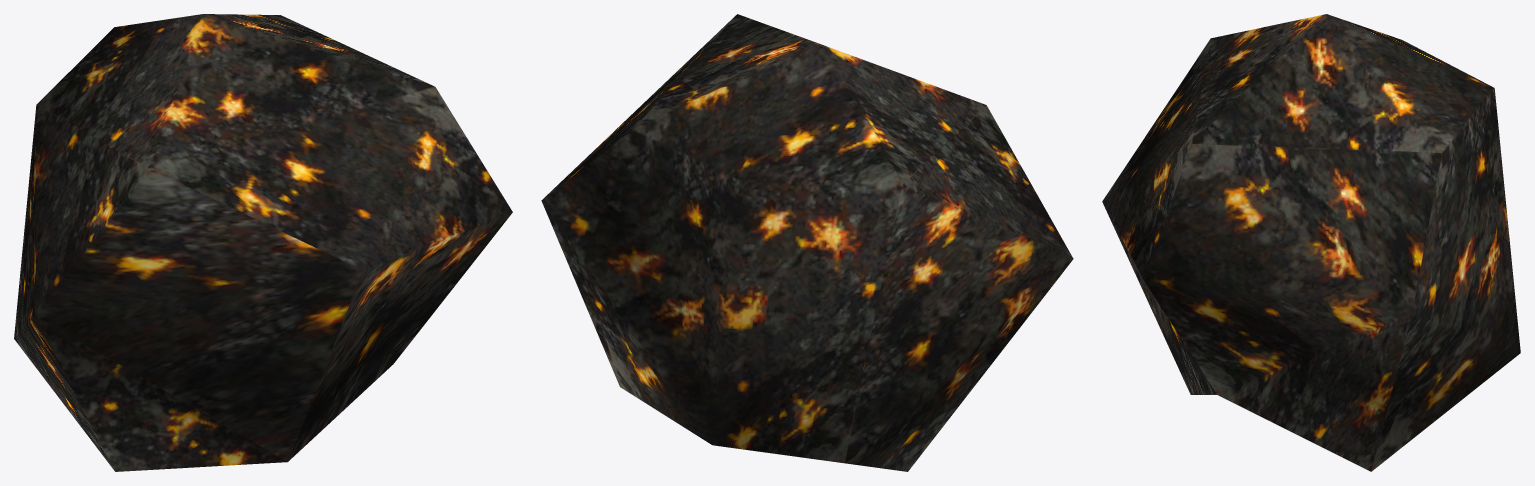
The model's file is asteroid_moltenrock_radial_s03_l3.fbx.
3 views of the same model, side by side, from view 1: azimuth 30°, elevation 25°; view 2: azimuth 150°, elevation 25°; view 3: azimuth 270°, elevation 25° (orthographic). The views are drawn at different scales.
Parts seen in each view (by area): view 1: mesh_node; view 2: mesh_node; view 3: mesh_node.
Boxes of the visible parts, box(x1,y1,x2,y2) form: mesh_node: box(14, 14, 512, 471); mesh_node: box(541, 14, 1073, 471); mesh_node: box(1102, 14, 1520, 471).
Bounding box in the file's own units: 5.97 × 5.28 × 4.89.
1 material, 1 textured.
